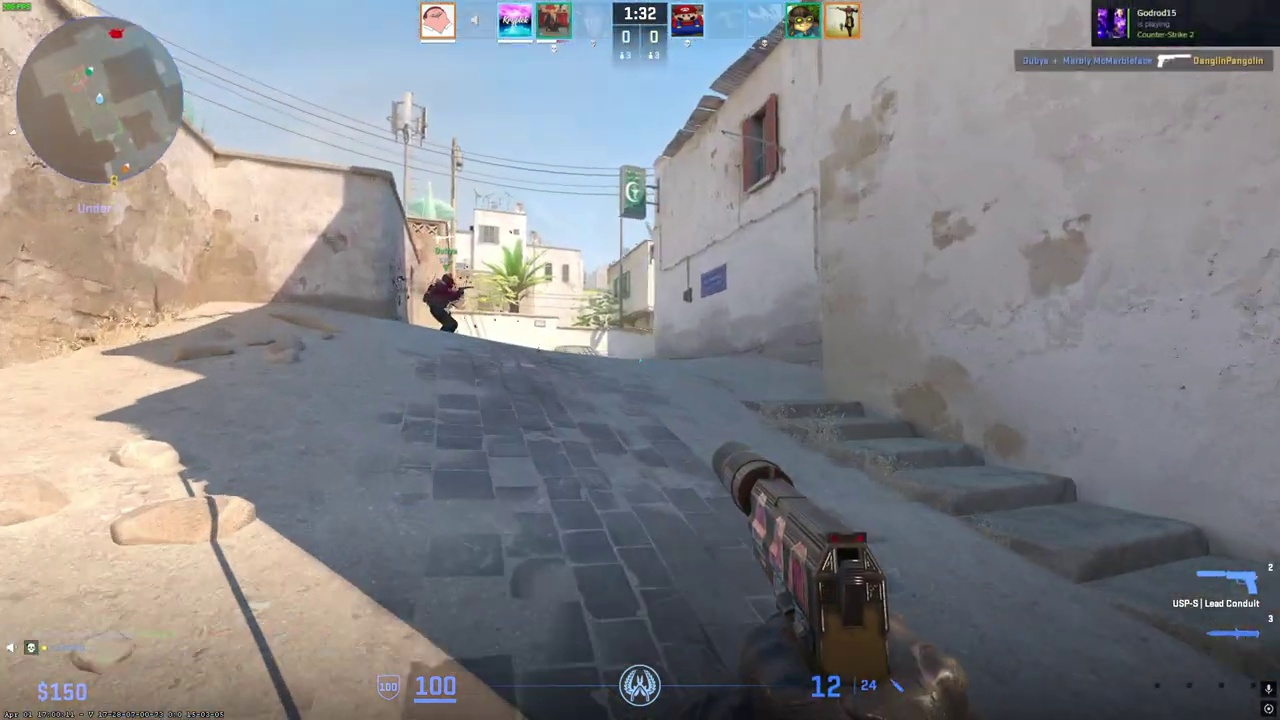CT: (426, 274, 462, 333)
